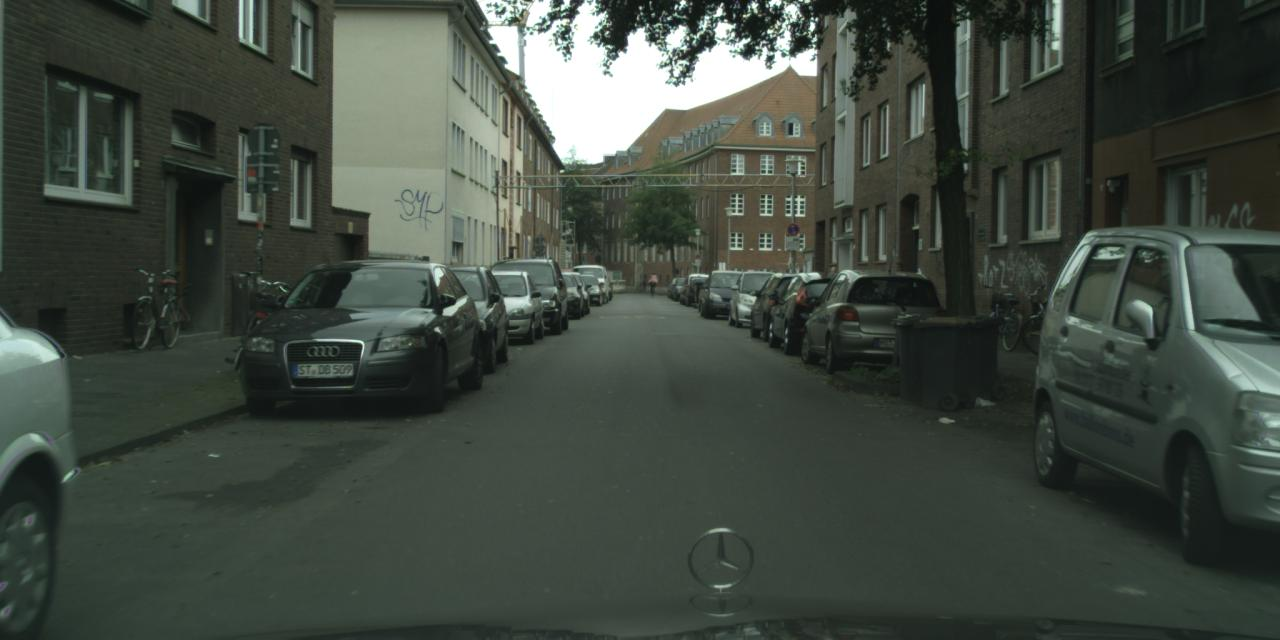ped: (884, 260, 914, 334), (649, 274, 656, 292)
